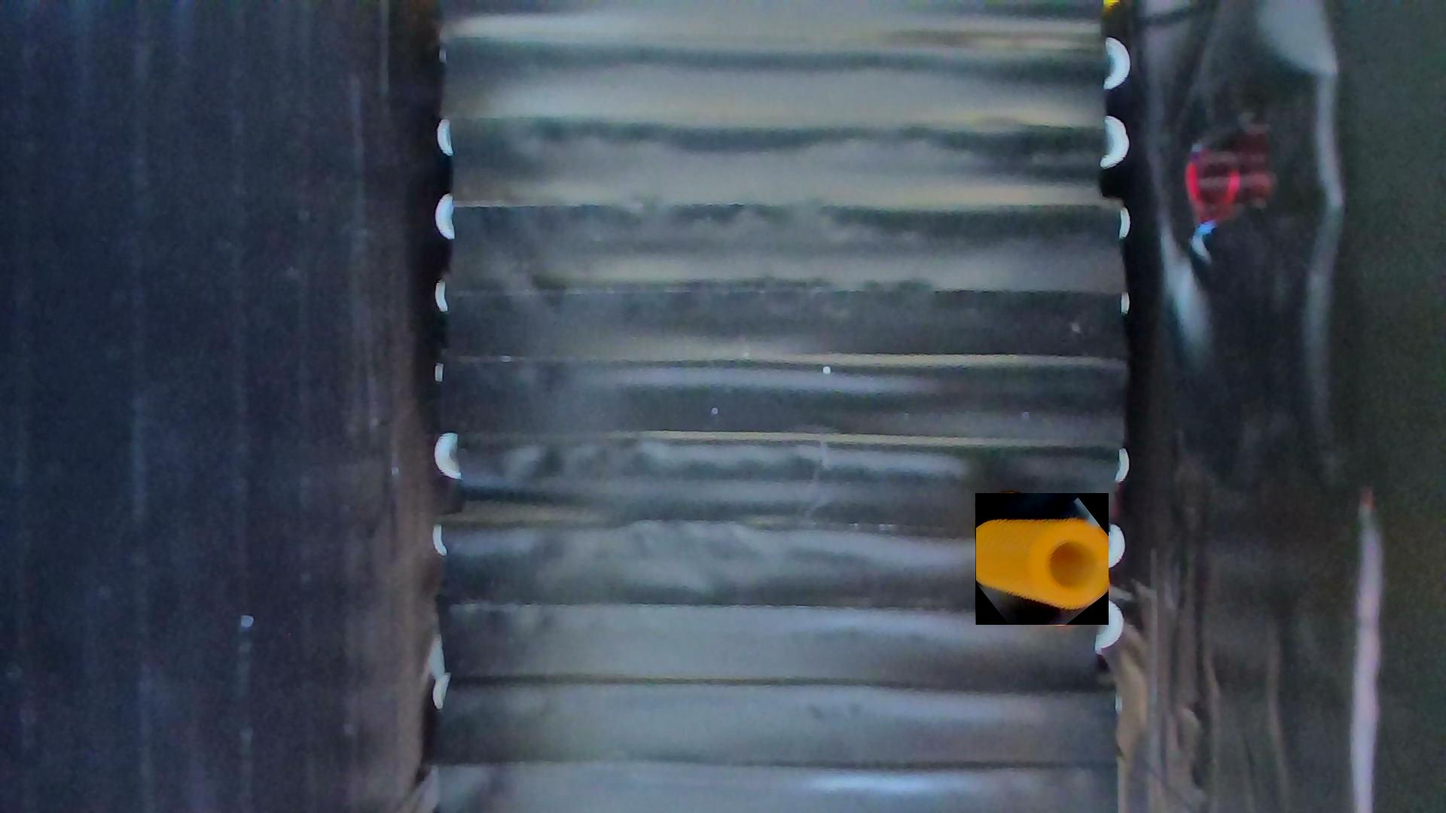spring: (975, 493, 1108, 625)
